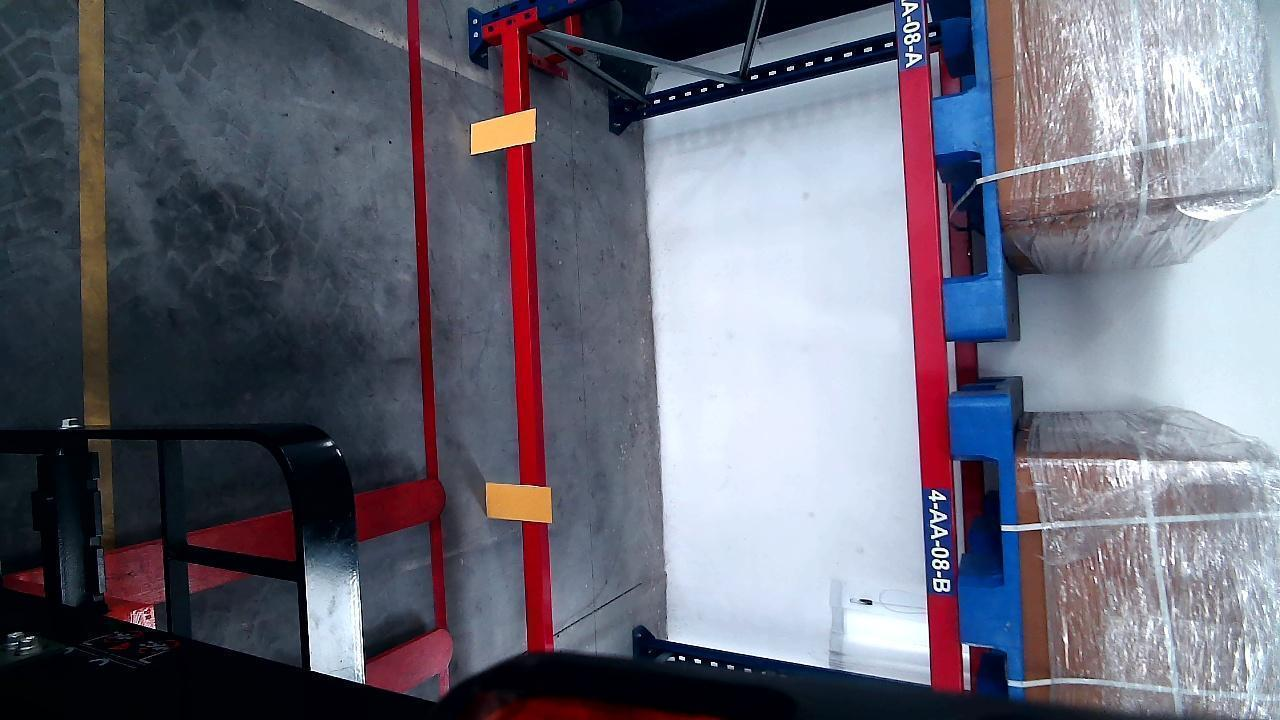red_line: (406, 0, 447, 635)
yellow_line: (78, 0, 112, 425)
